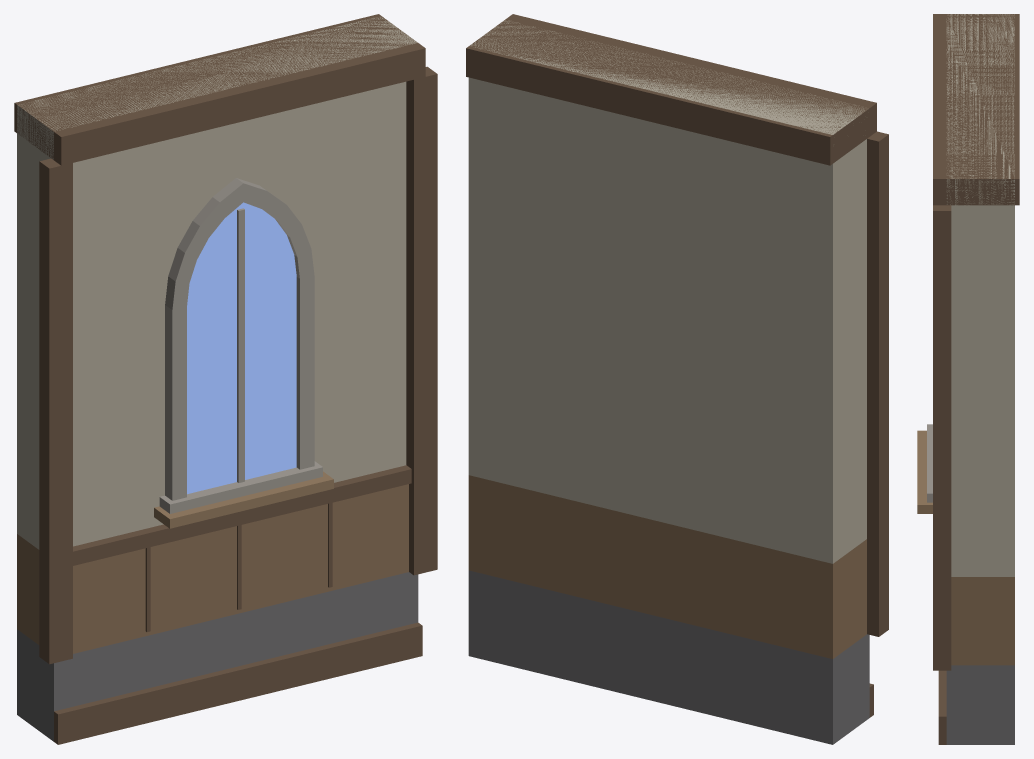
File: hall_window.glb
3 renders of one model, left to right at view 1: azimuth 30°, elevation 25°; view 2: azimuth 150°, elevation 25°; view 3: azimuth 270°, elevation 25°, orthographic. The views are drawn at different scales.
Visible parts, largest first — view 1: Upper, Plinth; view 2: Upper, Plinth; view 3: Upper, Plinth.
Part boxes in pixels (left/top/right/bottom): Upper: left=14, top=14, right=437, bottom=664; Plinth: left=17, top=572, right=422, bottom=744; Upper: left=466, top=14, right=888, bottom=658; Plinth: left=468, top=570, right=873, bottom=744; Upper: left=917, top=14, right=1019, bottom=670; Plinth: left=938, top=665, right=1014, bottom=744.
Bounding box in the file's own units: 4.26 × 6.4 × 1.05.
